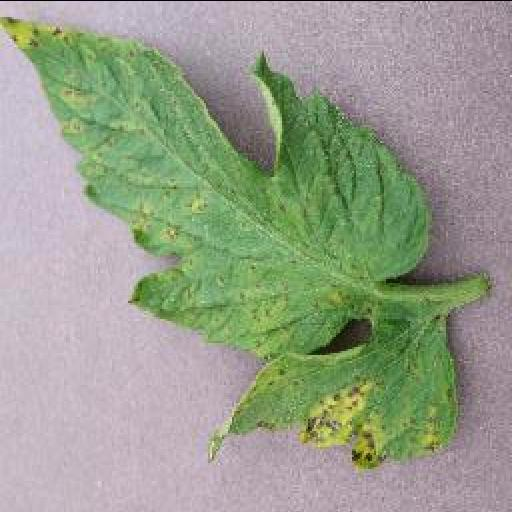disease_tomato: (0, 16, 452, 464)
